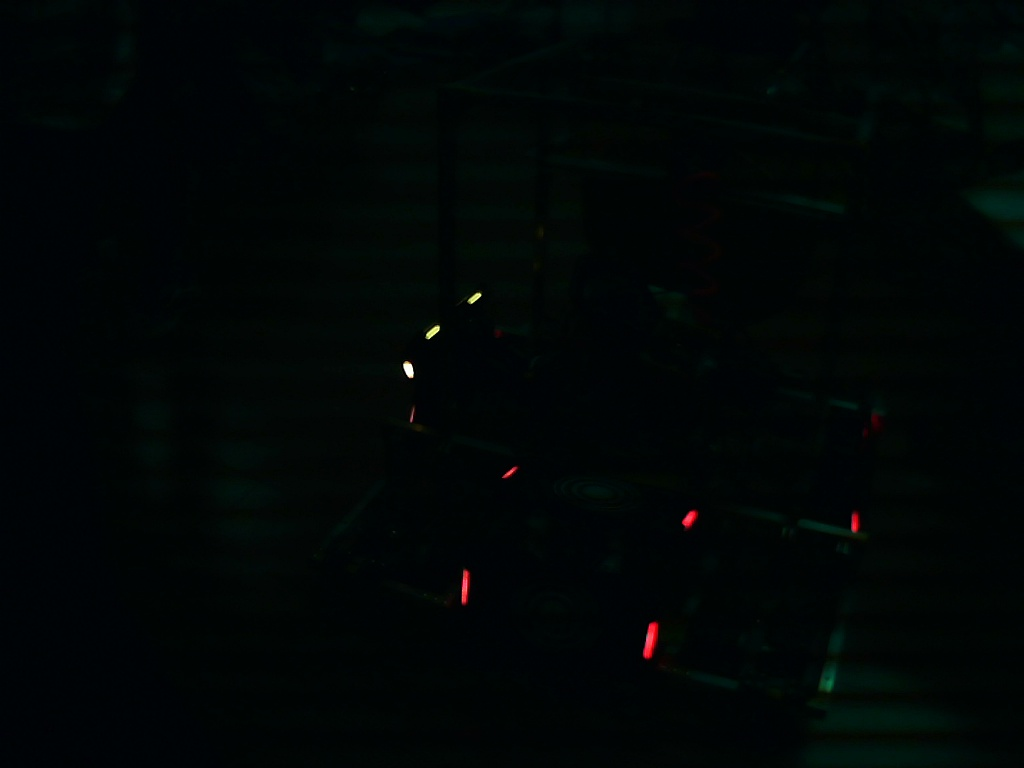lamp: (638, 615, 665, 666), (456, 564, 474, 610)
